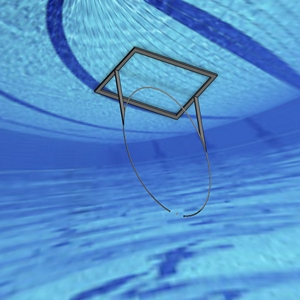circle: (94, 45, 219, 219)
